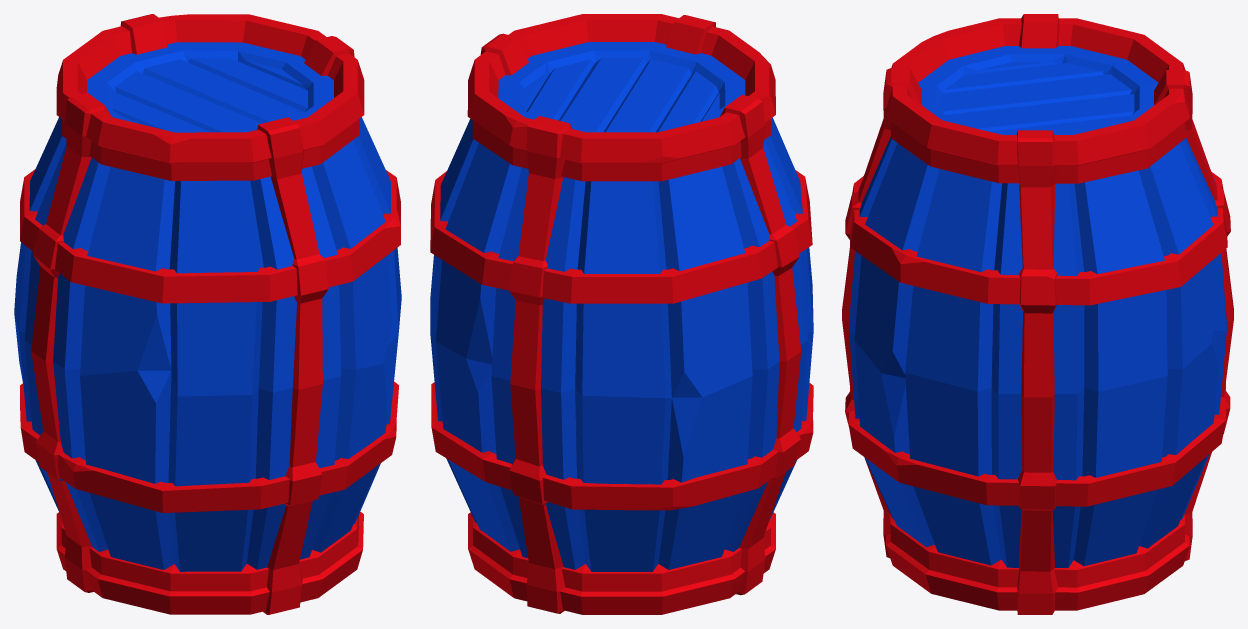
Rendered from Ton.fbx.
The picture shows the model from 3 angles, left to right: view 1: azimuth 30°, elevation 25°; view 2: azimuth 150°, elevation 25°; view 3: azimuth 270°, elevation 25°; orthographic projection.
Visible parts, largest first — view 1: SM_Prop_Barrel_01; view 2: SM_Prop_Barrel_01; view 3: SM_Prop_Barrel_01.
Boxes of the visible parts, x1,y1,x2,y2 form: SM_Prop_Barrel_01: [14, 14, 401, 614]; SM_Prop_Barrel_01: [430, 14, 813, 614]; SM_Prop_Barrel_01: [842, 14, 1233, 614].
Bounding box in the file's own units: 32.74 × 43.98 × 32.74.
